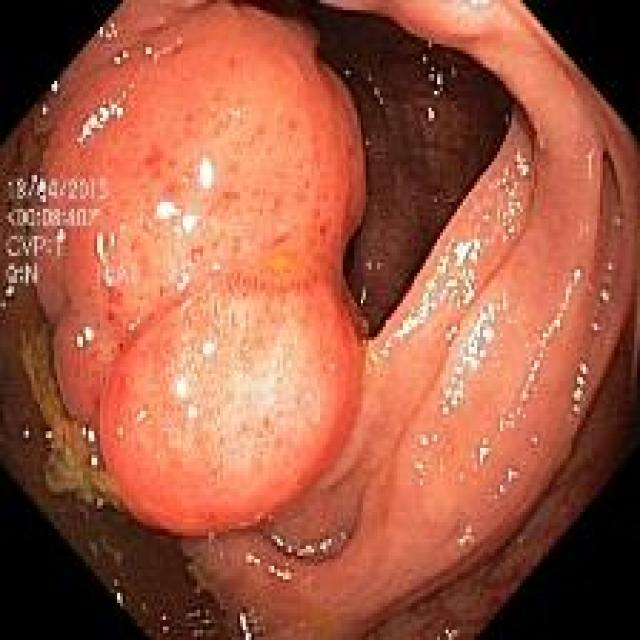Polyps: (18, 4, 366, 536)
